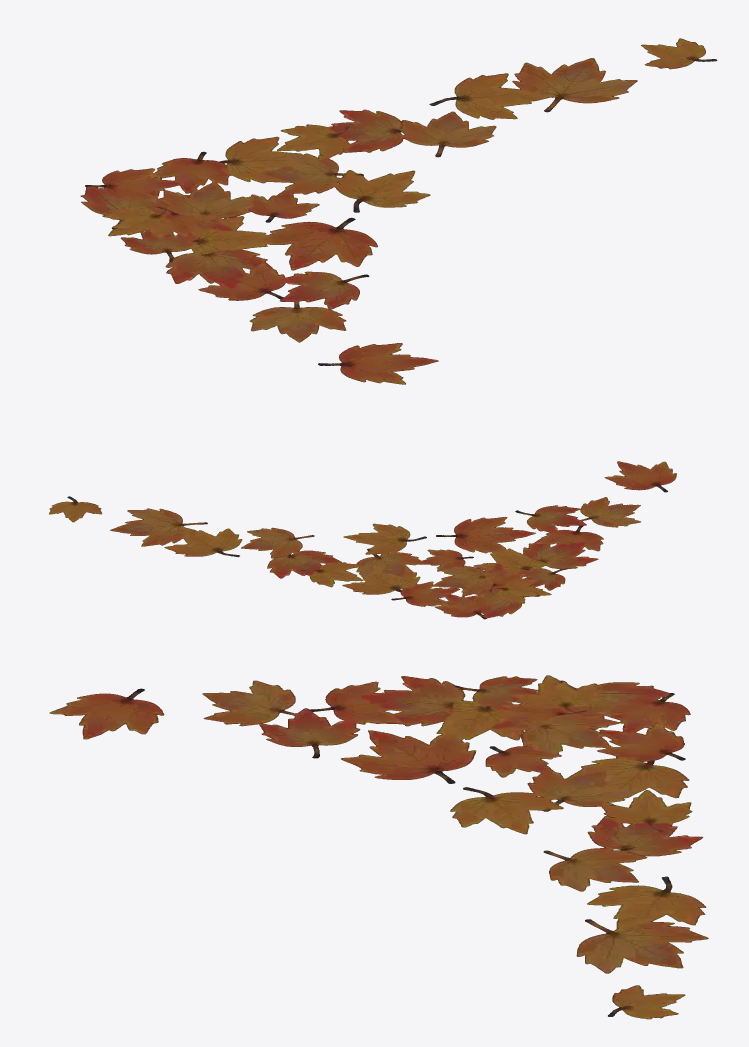
The picture shows the model from 3 angles, top to bottom: view 1: azimuth 30°, elevation 25°; view 2: azimuth 150°, elevation 25°; view 3: azimuth 270°, elevation 25°; orthographic projection. The views are drawn at different scales.
Parts seen in each view (by area): view 1: SM_ScatteredLeaves_Maple_04_LOD0; view 2: SM_ScatteredLeaves_Maple_04_LOD0; view 3: SM_ScatteredLeaves_Maple_04_LOD0.
Boxes of the visible parts, <box> form: SM_ScatteredLeaves_Maple_04_LOD0: <box>80,38,717,384</box>; SM_ScatteredLeaves_Maple_04_LOD0: <box>49,461,676,619</box>; SM_ScatteredLeaves_Maple_04_LOD0: <box>49,675,708,1019</box>.
Size of the model in its own units: 1.91 by 0 by 1.6.
Materials: 1 (1 with a texture image).
